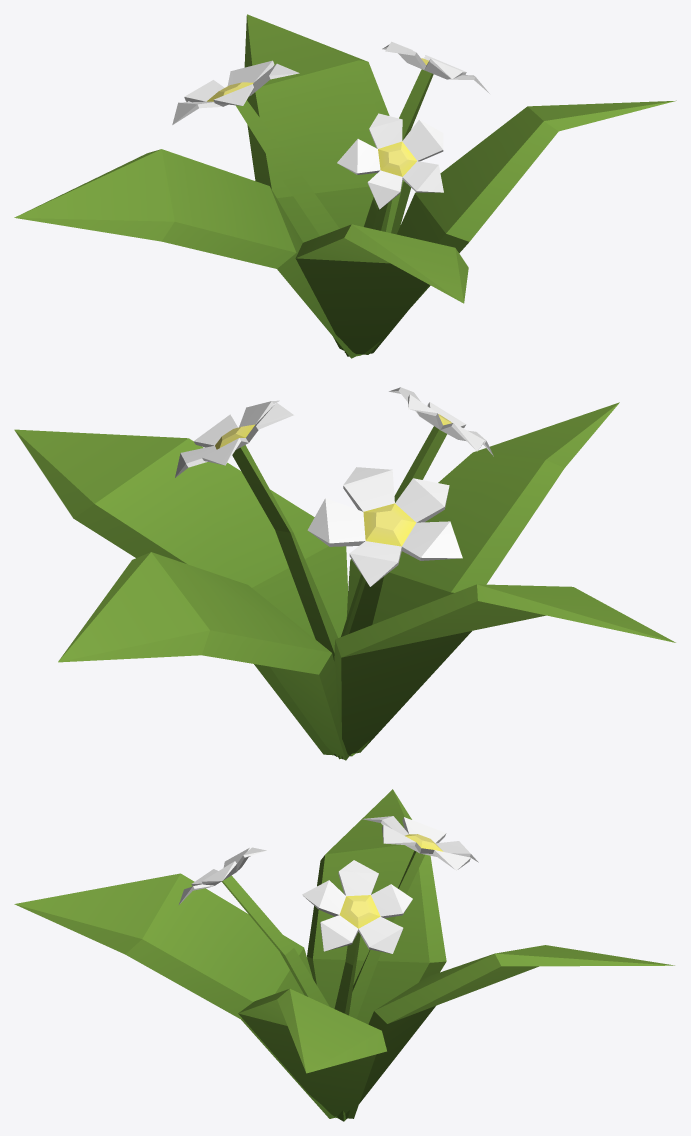
File: LowPoly_TREE_E.glb
3 renders of one model, top to bottom at view 1: azimuth 30°, elevation 25°; view 2: azimuth 150°, elevation 25°; view 3: azimuth 270°, elevation 25°, orthographic. The views are drawn at different scales.
Parts seen in each view (by area): view 1: Flower_bush_white; view 2: Flower_bush_white; view 3: Flower_bush_white.
Boxes of the visible parts, x1,y1,x2,y2 form: Flower_bush_white: (14,14,676,358); Flower_bush_white: (14,387,675,760); Flower_bush_white: (14,789,674,1121).
Bounding box in the file's own units: 1.41 × 0.6249 × 1.39.
1 material, 1 textured.
